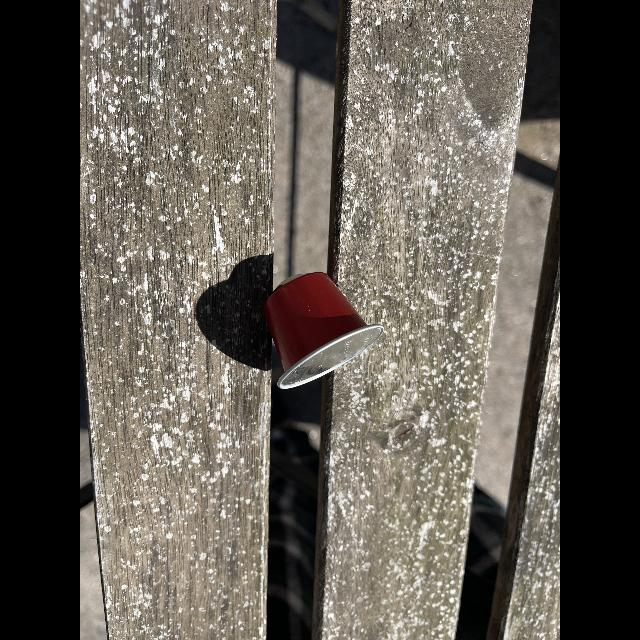intact_capsule: (260, 264, 392, 400)
